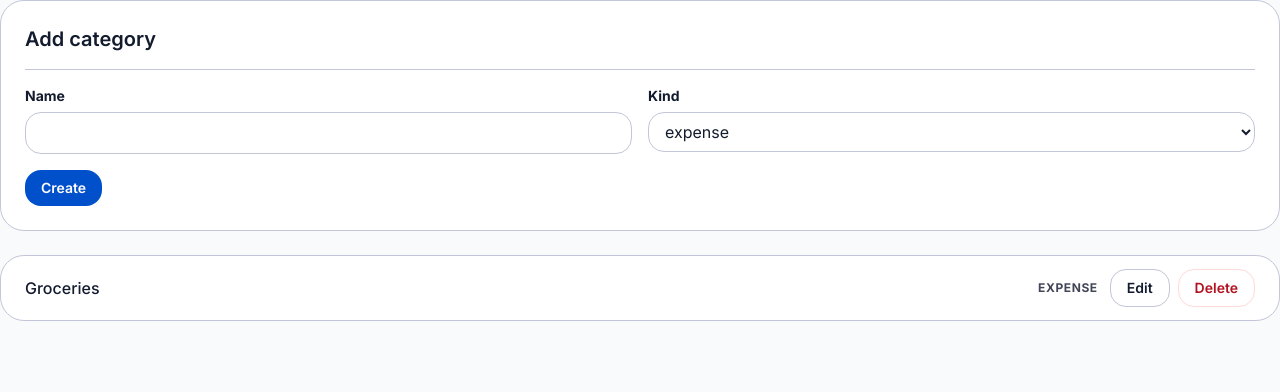
Test: CategoriesContainer › shows the API error message on a duplicate name
The width and height of the screenshot is (1280, 392).
Expected: the text "Groceries" is shown, [25, 278, 100, 298]
Type "Groceries" into the field labelled "Name" at (328, 133), box [25, 112, 632, 154]
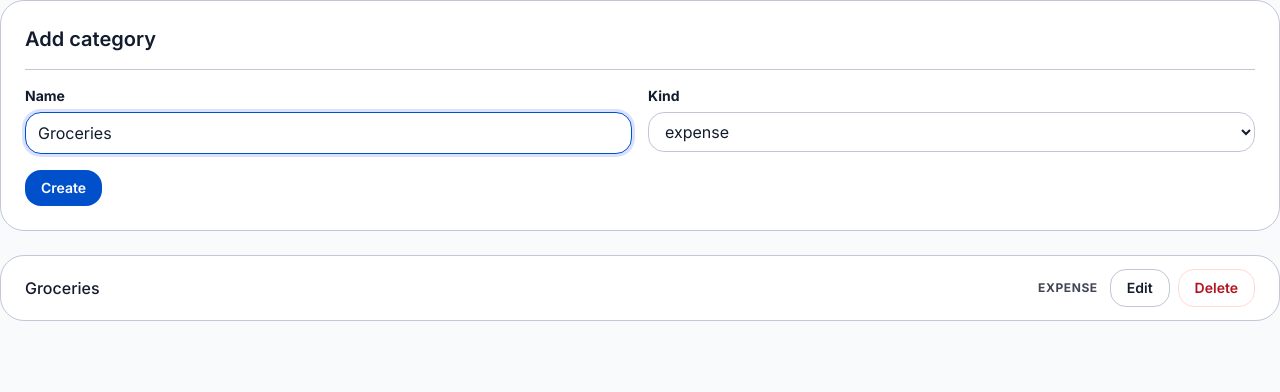
Click the button "Create" at (64, 188), box [25, 170, 102, 206]
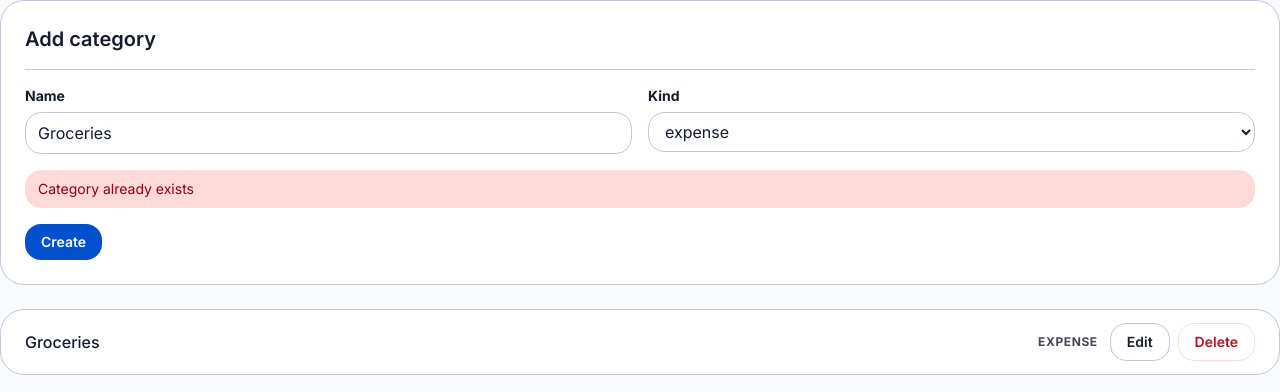
Now the message reads "Category already exists", box [38, 180, 194, 197]
